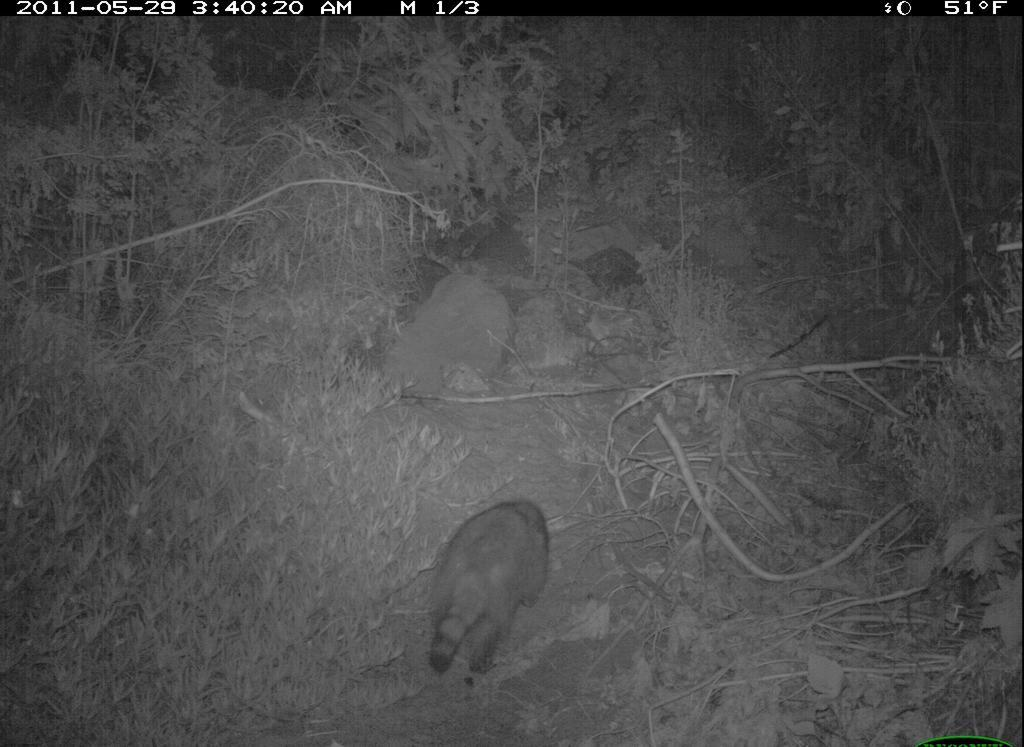raccoon: (399, 477, 552, 676)
